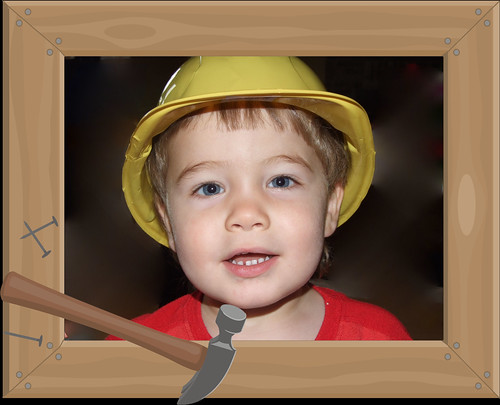person hardhat: (109, 58, 388, 341)
